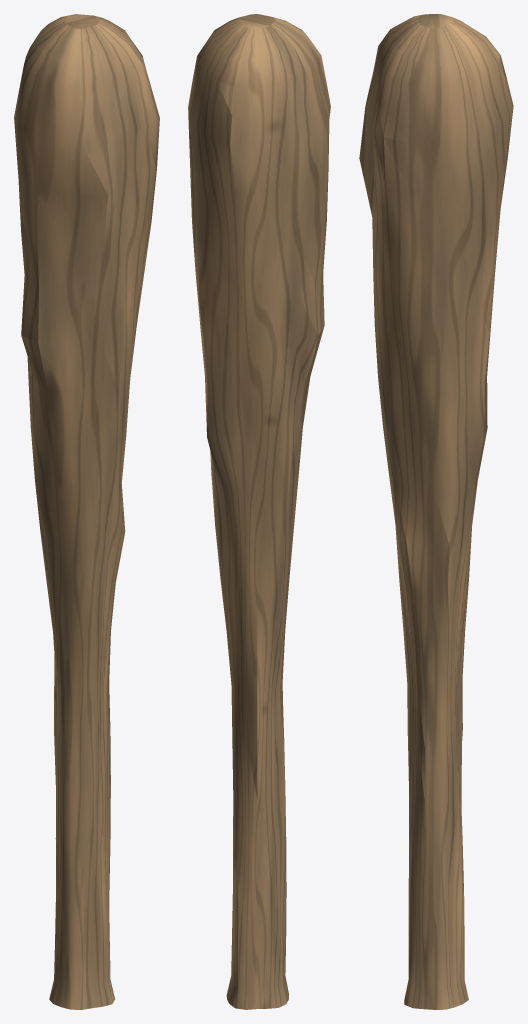
File: club.glb
The picture shows the model from 3 angles, left to right: view 1: azimuth 30°, elevation 25°; view 2: azimuth 150°, elevation 25°; view 3: azimuth 270°, elevation 25°; orthographic projection.
Visible parts, largest first — view 1: OUT; view 2: OUT; view 3: OUT.
Boxes of the visible parts, x1,y1,x2,y2 form: OUT: [14, 14, 159, 1009]; OUT: [188, 14, 330, 1009]; OUT: [359, 14, 513, 1009].
Bounding box in the file's own units: 0.1004 × 0.75 × 0.1073.
Materials: 1 (1 with a texture image).
